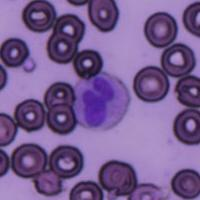N: (72, 71, 130, 130)
